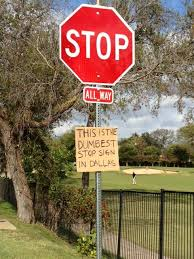stop_sign: (59, 3, 135, 85)
